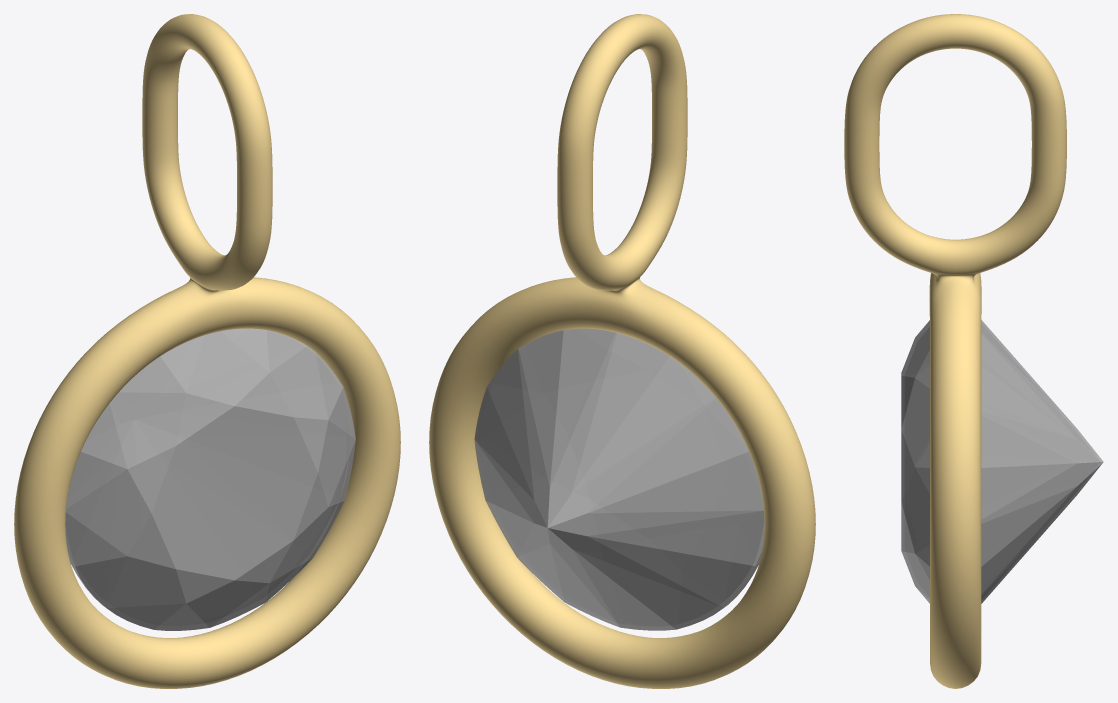
File: Diamond.glb
3 views of the same model, side by side, from view 1: azimuth 30°, elevation 25°; view 2: azimuth 150°, elevation 25°; view 3: azimuth 270°, elevation 25° (orthographic).
Visible parts, largest first — view 1: dem_drop, diamond; view 2: dem_drop, diamond; view 3: dem_drop, diamond.
Part boxes in pixels (x1,y1,x2,y2): dem_drop: (14,14,400,688); diamond: (65,328,355,630); dem_drop: (429,14,815,688); diamond: (474,328,764,630); dem_drop: (844,14,1066,688); diamond: (901,320,1103,603).
Size of the model in its own units: 0.00709 by 0.0118 by 0.00424.
2 materials, 2 textured.
